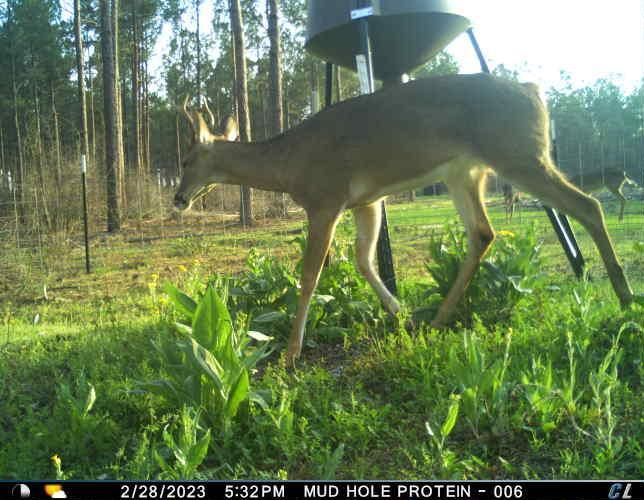Deer: (170, 71, 634, 379), (569, 163, 639, 223), (499, 178, 529, 224)
